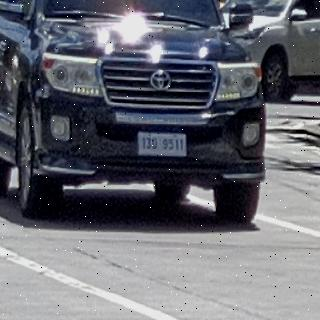license: (139, 134, 188, 157)
